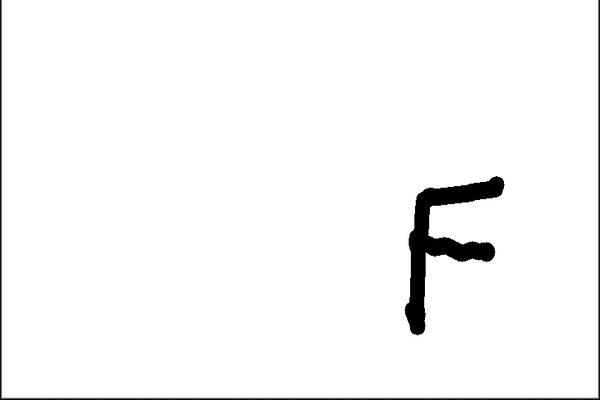F: (400, 173, 507, 337)
